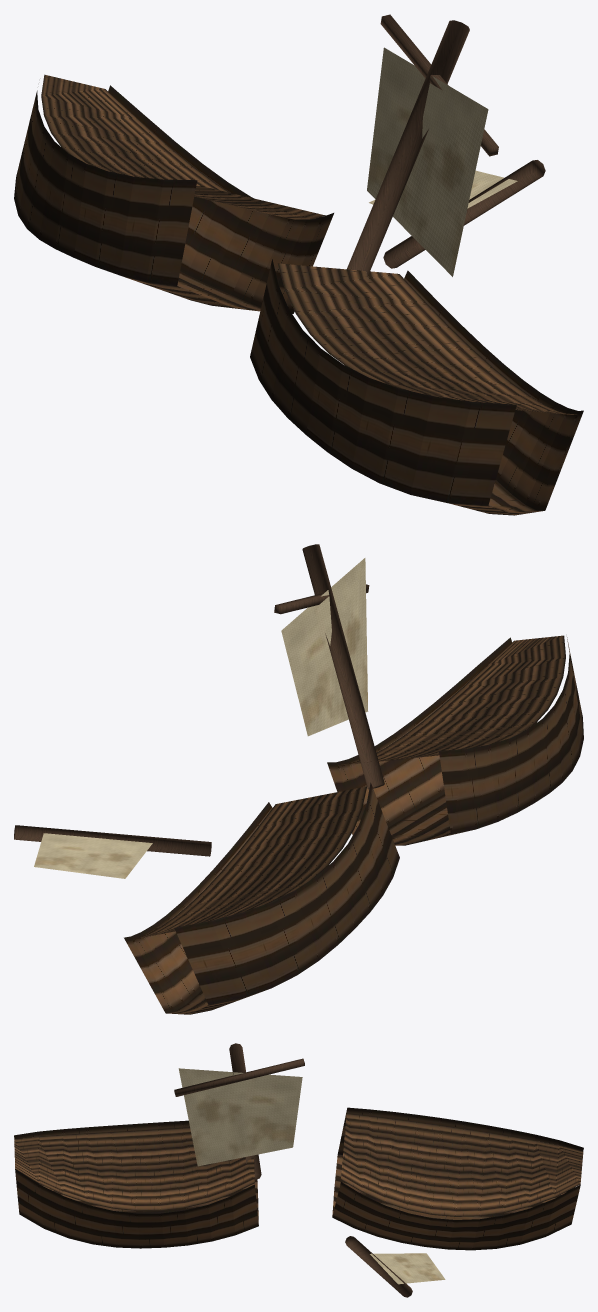
File: sky_ship_wreck.glb
The picture shows the model from 3 angles, top to bottom: view 1: azimuth 30°, elevation 25°; view 2: azimuth 150°, elevation 25°; view 3: azimuth 270°, elevation 25°; orthographic projection. The views are drawn at different scales.
Parts seen in each view (by area): view 1: Hull0, Hull1, Sails, Masts; view 2: Hull1, Hull0, Sails, Masts; view 3: Hull1, Hull0, Sails, Masts.
Part boxes in pixels (x1,y1,x2,y2): Hull0: (250,259,583,515); Hull1: (14,74,333,313); Sails: (367,47,517,276); Masts: (347,14,545,276); Hull1: (124,782,399,1014); Hull0: (327,635,583,845); Sails: (34,558,368,878); Masts: (14,544,384,856); Hull1: (332,1107,583,1250); Hull0: (14,1120,258,1248); Sails: (178,1068,445,1284); Masts: (174,1043,412,1297).
Size of what is drawn, in the model's own units: 16.04 by 13.05 by 29.88.
Materials: 3 (3 with a texture image).
